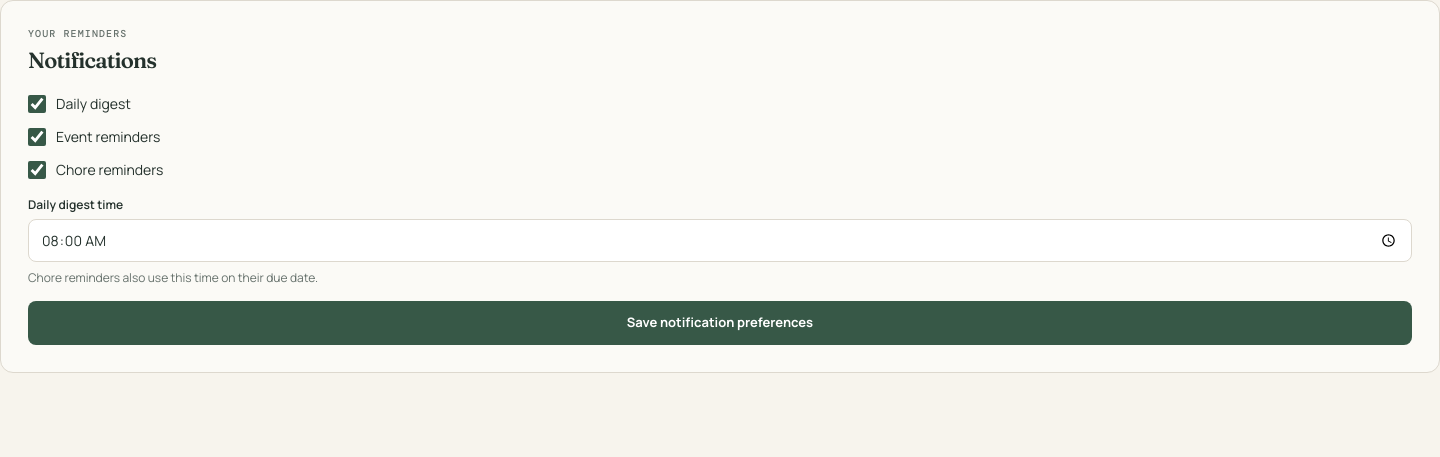
Test: NotificationPreferencesPanel › shows a server error without reporting success
Step 1. Click the button "Save notification preferences" → (720, 323), box [28, 301, 1412, 344]
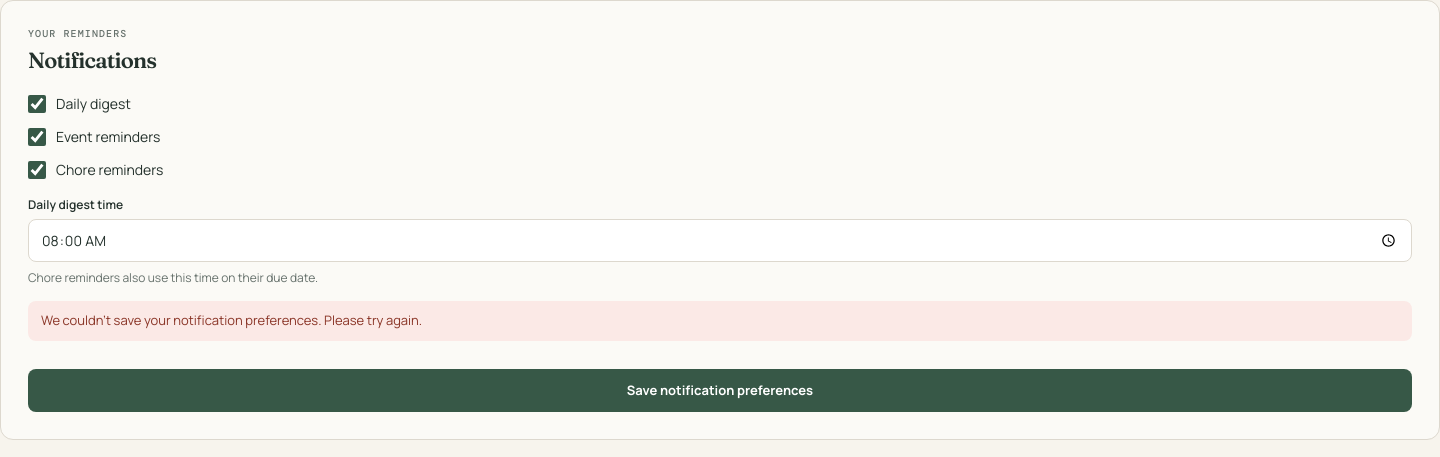
Result: the message shows "couldn't save" at [41, 311, 422, 329]
